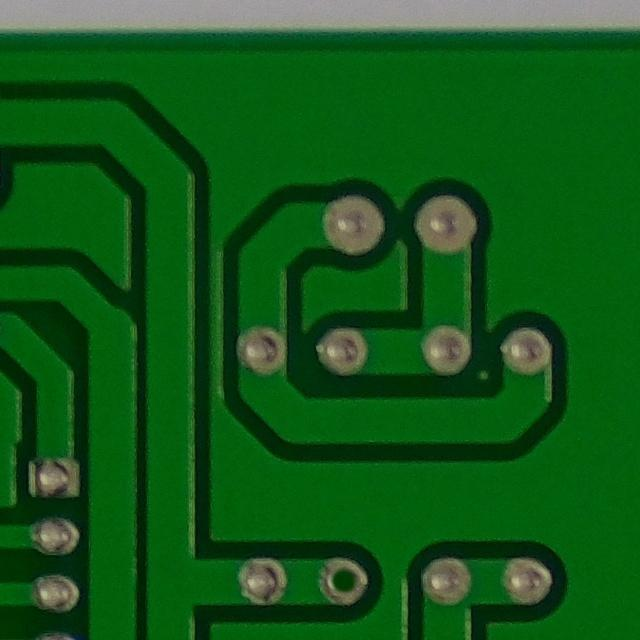missing_hole: (311, 546, 374, 612)
